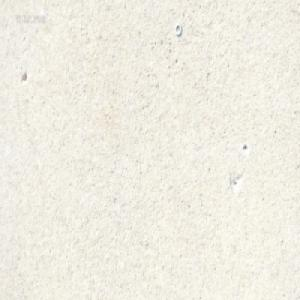Washer: (174, 22, 181, 36)
